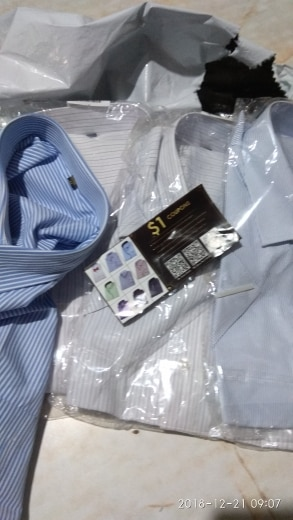shirts: (105, 99, 292, 448), (1, 114, 113, 520), (219, 103, 293, 427)
